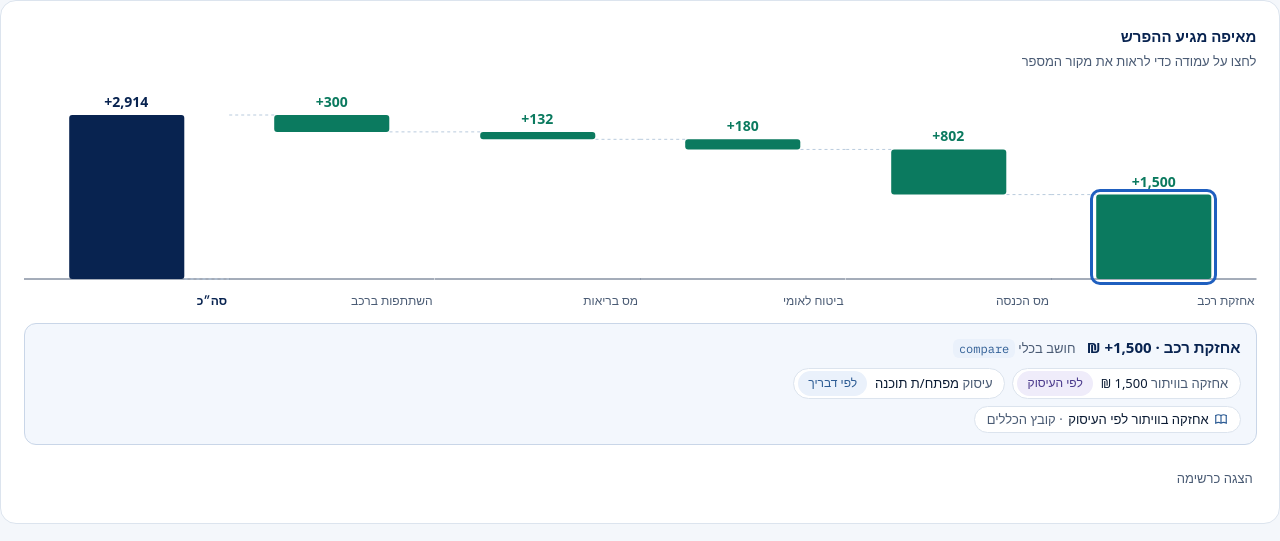
Test: Waterfall › shows the 802 line's inputs with their sources and its rules
What coordinates should you click on to do the following:
click the button "+802 מס הכנסה"
I would click on:
 (948, 197)
Its box is left=846, top=87, right=1051, bottom=308.
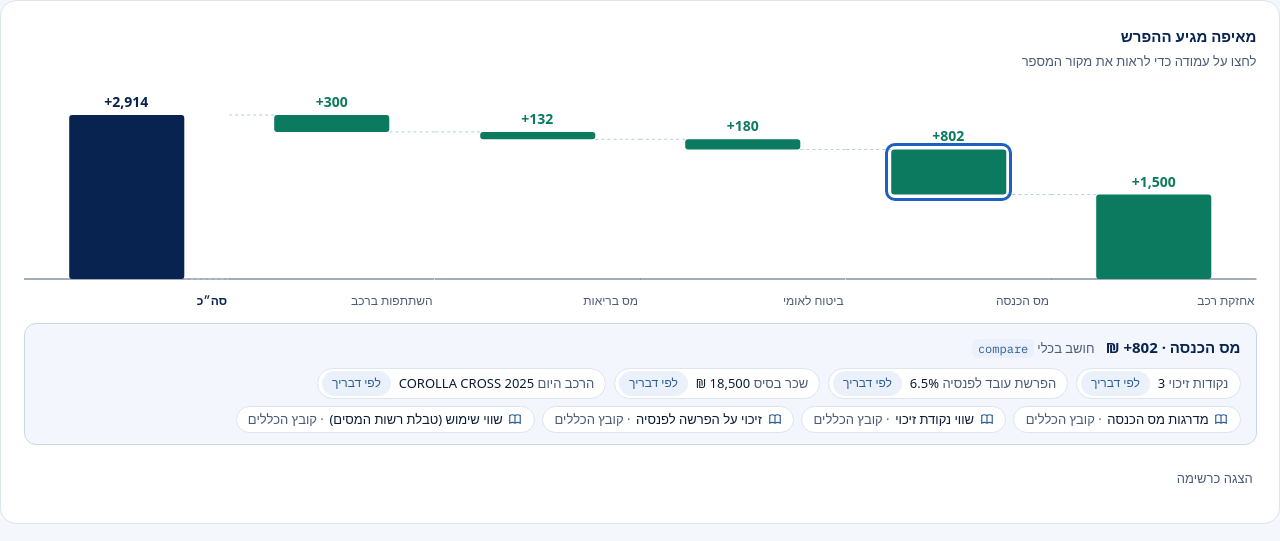
expect the element with test id "provenance" shows "מס הכנסה · +802 ₪": met, box left=24, top=323, right=1256, bottom=445
expect the list item "נקודות זיכוי 3 לפי דבריך" is shown: met, box left=1076, top=368, right=1240, bottom=399
expect the list item "הפרשת עובד לפנסיה 6.5% לפי דבריך" is shown: met, box left=828, top=368, right=1068, bottom=399
